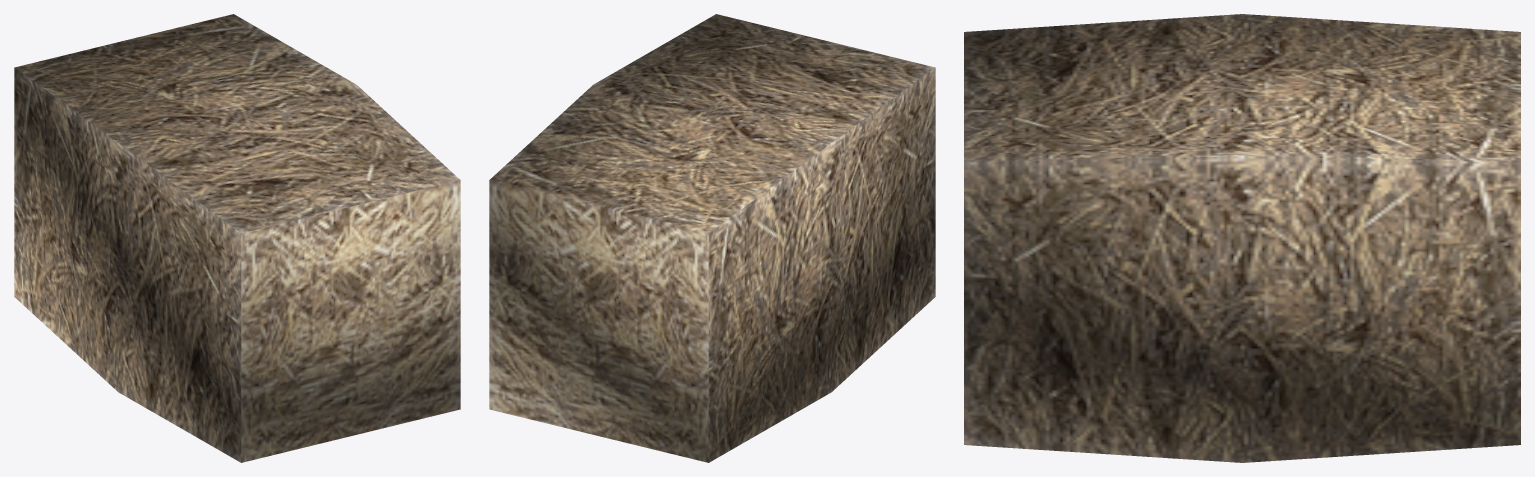
The model's file is Straw.FBX.
The picture shows the model from 3 angles, left to right: view 1: azimuth 30°, elevation 25°; view 2: azimuth 150°, elevation 25°; view 3: azimuth 270°, elevation 25°; orthographic projection. The views are drawn at different scales.
Parts seen in each view (by area): view 1: Straw; view 2: Straw; view 3: Straw.
Part boxes in pixels (left/top/right/bottom): Straw: left=14, top=14, right=460, bottom=462; Straw: left=489, top=14, right=935, bottom=462; Straw: left=964, top=14, right=1520, bottom=462.
Size of the model in its own units: 90.37 by 90.37 by 149.
